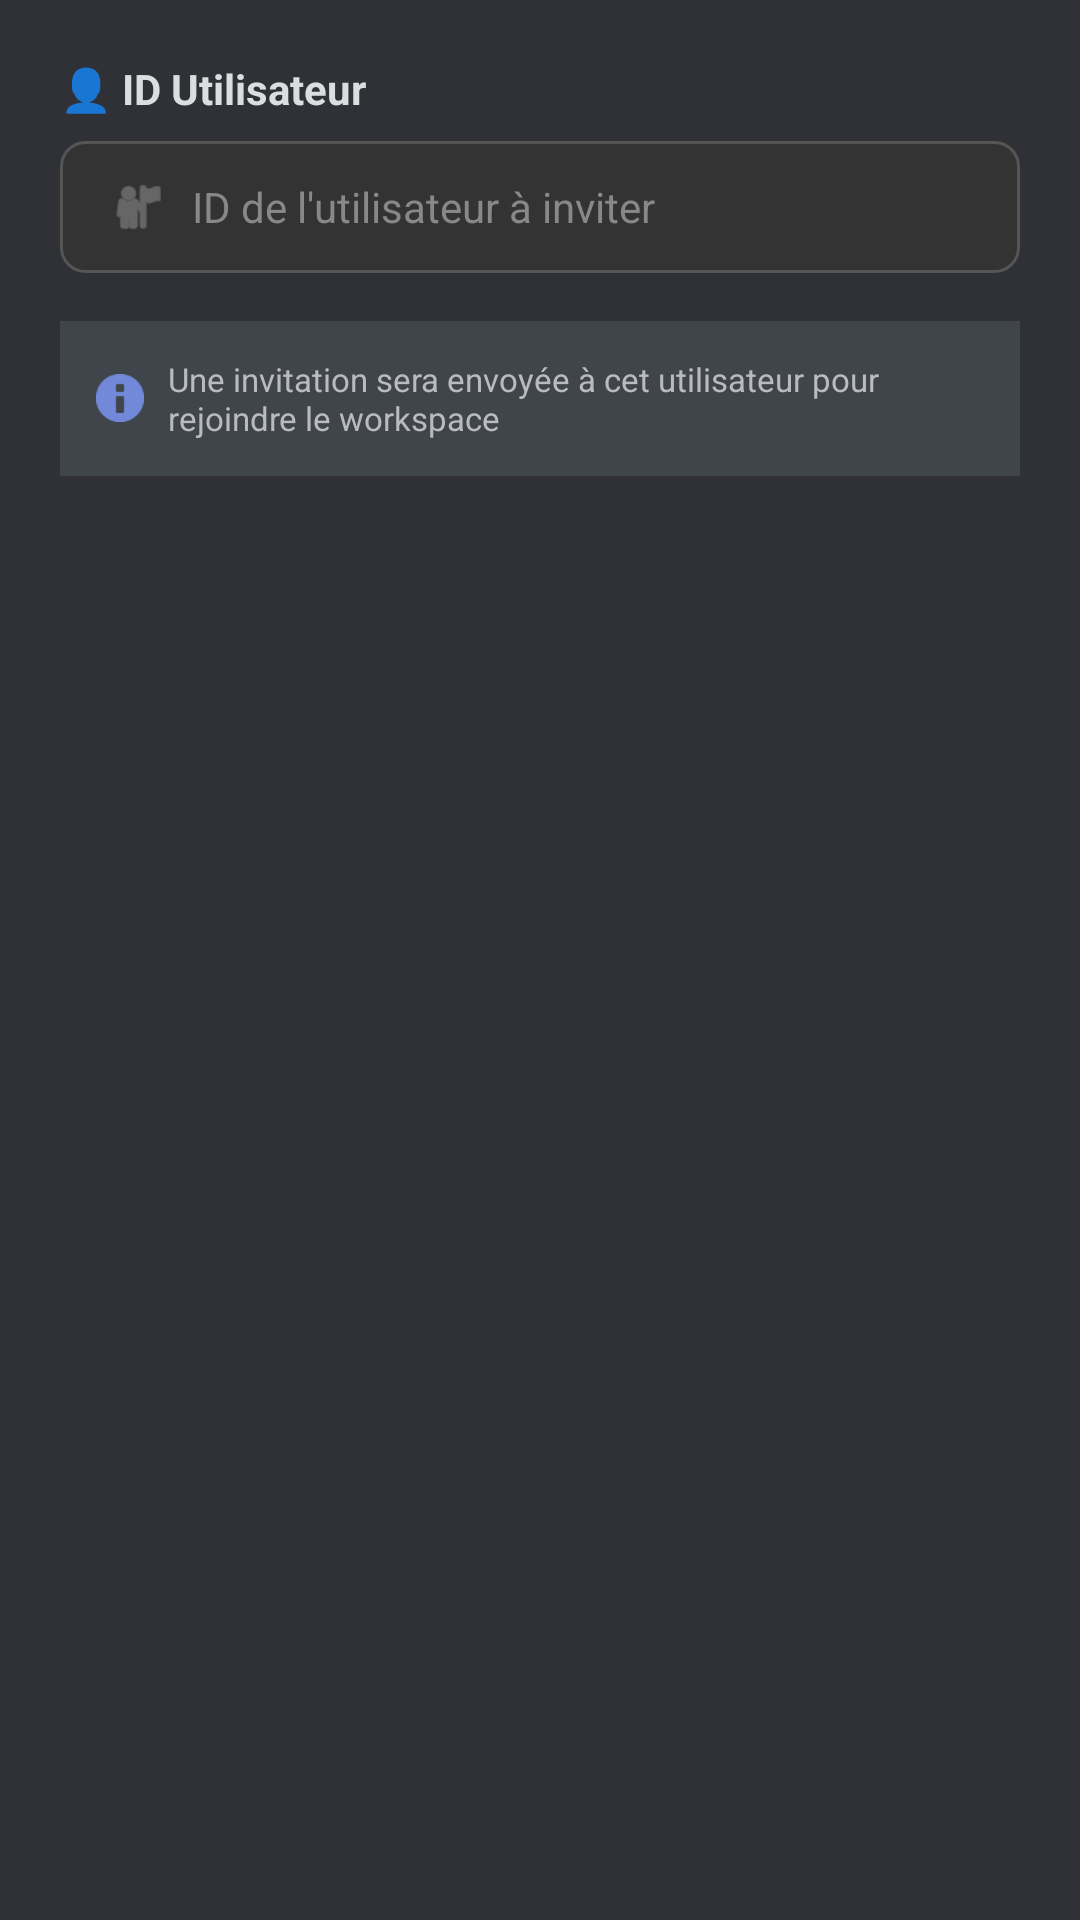

Screen size 1080 × 1920. Icon name, then its center in pixels as [x,y]:
info: [120,398]
myplaces: [139,207]
